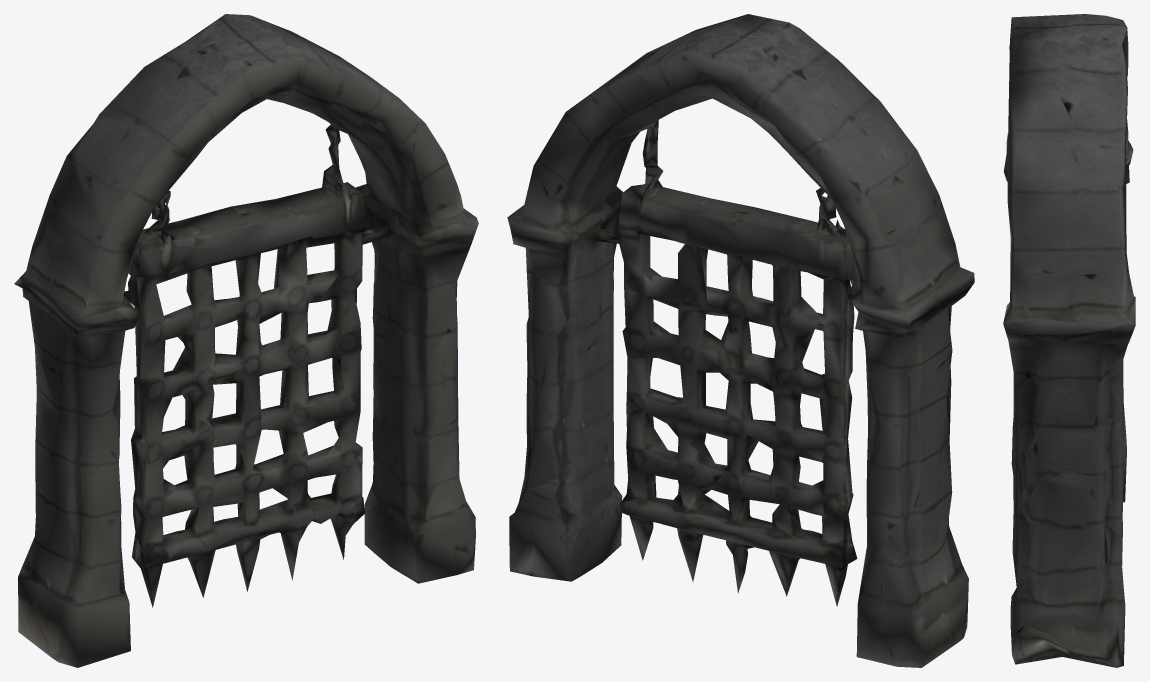
Rendered from iron_gate_open.glb.
The picture shows the model from 3 angles, left to right: view 1: azimuth 30°, elevation 25°; view 2: azimuth 150°, elevation 25°; view 3: azimuth 270°, elevation 25°; orthographic projection. The views are drawn at different scales.
Size of the model in its own units: 1.54 by 2 by 0.4382.
1 material, 1 textured.
